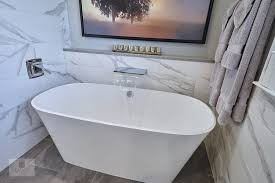bathub: (29, 74, 223, 183)
